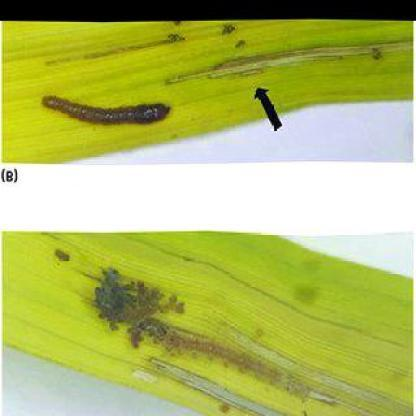leaf-folder: (181, 328, 298, 393), (36, 87, 174, 133), (89, 262, 166, 340), (230, 53, 266, 84)
